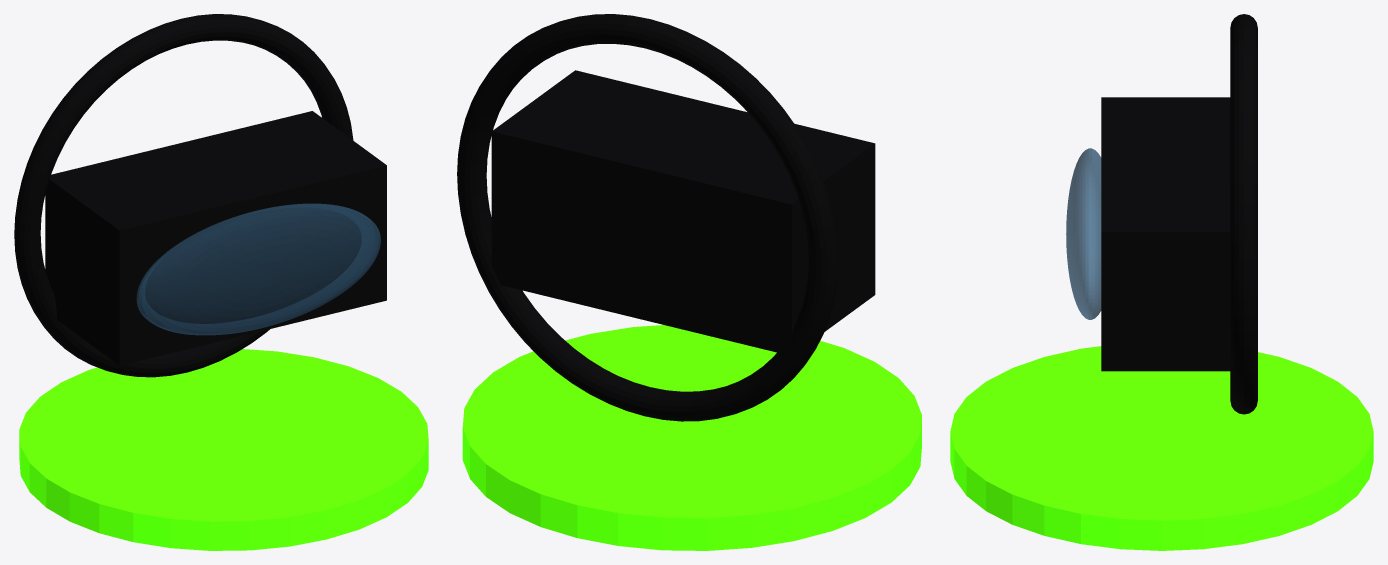
Rendered from tech_vr_headset.dae.
3 renders of one model, left to right at view 1: azimuth 30°, elevation 25°; view 2: azimuth 150°, elevation 25°; view 3: azimuth 270°, elevation 25°, orthographic. The views are drawn at different scales.
Parts seen in each view (by area): view 1: 08_06_Popular_Tech_VR_Headset_part_01, 08_06_Popular_Tech_VR_Headset_ROOT_base, 08_06_Popular_Tech_VR_Headset_part_02, 08_06_Popular_Tech_VR_Headset_part_03; view 2: 08_06_Popular_Tech_VR_Headset_part_01, 08_06_Popular_Tech_VR_Headset_ROOT_base, 08_06_Popular_Tech_VR_Headset_part_03; view 3: 08_06_Popular_Tech_VR_Headset_ROOT_base, 08_06_Popular_Tech_VR_Headset_part_01, 08_06_Popular_Tech_VR_Headset_part_03, 08_06_Popular_Tech_VR_Headset_part_02.
Part boxes in pixels (bbox=[...]): 08_06_Popular_Tech_VR_Headset_part_01: bbox=[45, 111, 386, 365]; 08_06_Popular_Tech_VR_Headset_ROOT_base: bbox=[19, 349, 428, 550]; 08_06_Popular_Tech_VR_Headset_part_02: bbox=[136, 203, 380, 335]; 08_06_Popular_Tech_VR_Headset_part_03: bbox=[14, 14, 353, 377]; 08_06_Popular_Tech_VR_Headset_part_01: bbox=[491, 70, 875, 353]; 08_06_Popular_Tech_VR_Headset_ROOT_base: bbox=[462, 325, 921, 550]; 08_06_Popular_Tech_VR_Headset_part_03: bbox=[457, 14, 838, 421]; 08_06_Popular_Tech_VR_Headset_ROOT_base: bbox=[950, 346, 1373, 550]; 08_06_Popular_Tech_VR_Headset_part_01: bbox=[1101, 97, 1230, 371]; 08_06_Popular_Tech_VR_Headset_part_03: bbox=[1230, 14, 1257, 414]; 08_06_Popular_Tech_VR_Headset_part_02: bbox=[1066, 148, 1101, 319].
Size of the model in its own units: 0.76 by 0.85 by 0.76.
